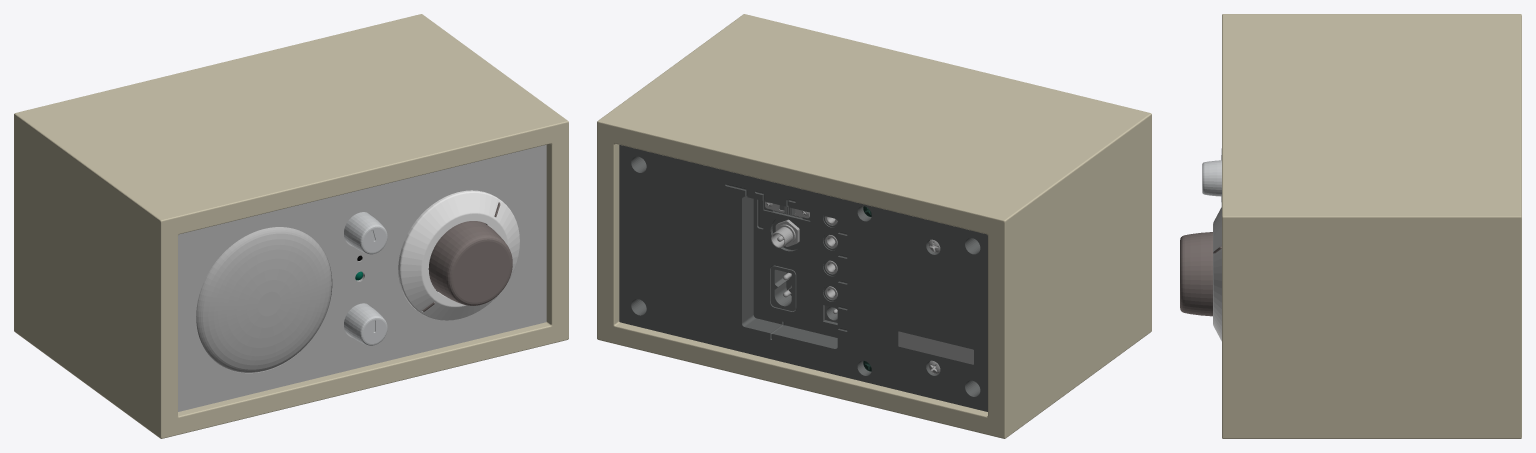
The model's file is radio.fbx.
The picture shows the model from 3 angles, left to right: view 1: azimuth 30°, elevation 25°; view 2: azimuth 150°, elevation 25°; view 3: azimuth 270°, elevation 25°; orthographic projection.
Visible parts, largest first — view 1: 20 Tivoli, radio; view 2: 20 Tivoli; view 3: 20 Tivoli.
Boxes of the visible parts, bbox=[...] form: 20 Tivoli: bbox=[14, 14, 568, 438]; radio: bbox=[178, 145, 546, 411]; 20 Tivoli: bbox=[597, 14, 1151, 438]; 20 Tivoli: bbox=[1180, 14, 1521, 438].
Size of the model in its own units: 53.86 by 28.83 by 38.31.
